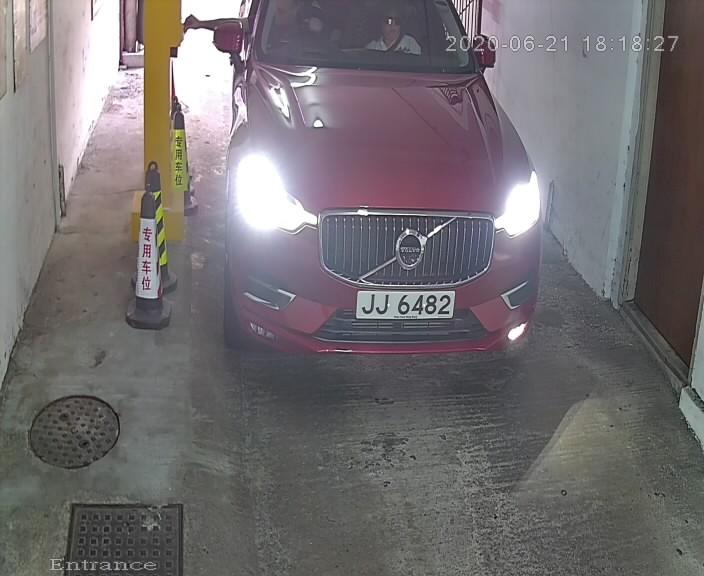privatecar: (207, 1, 565, 396)
